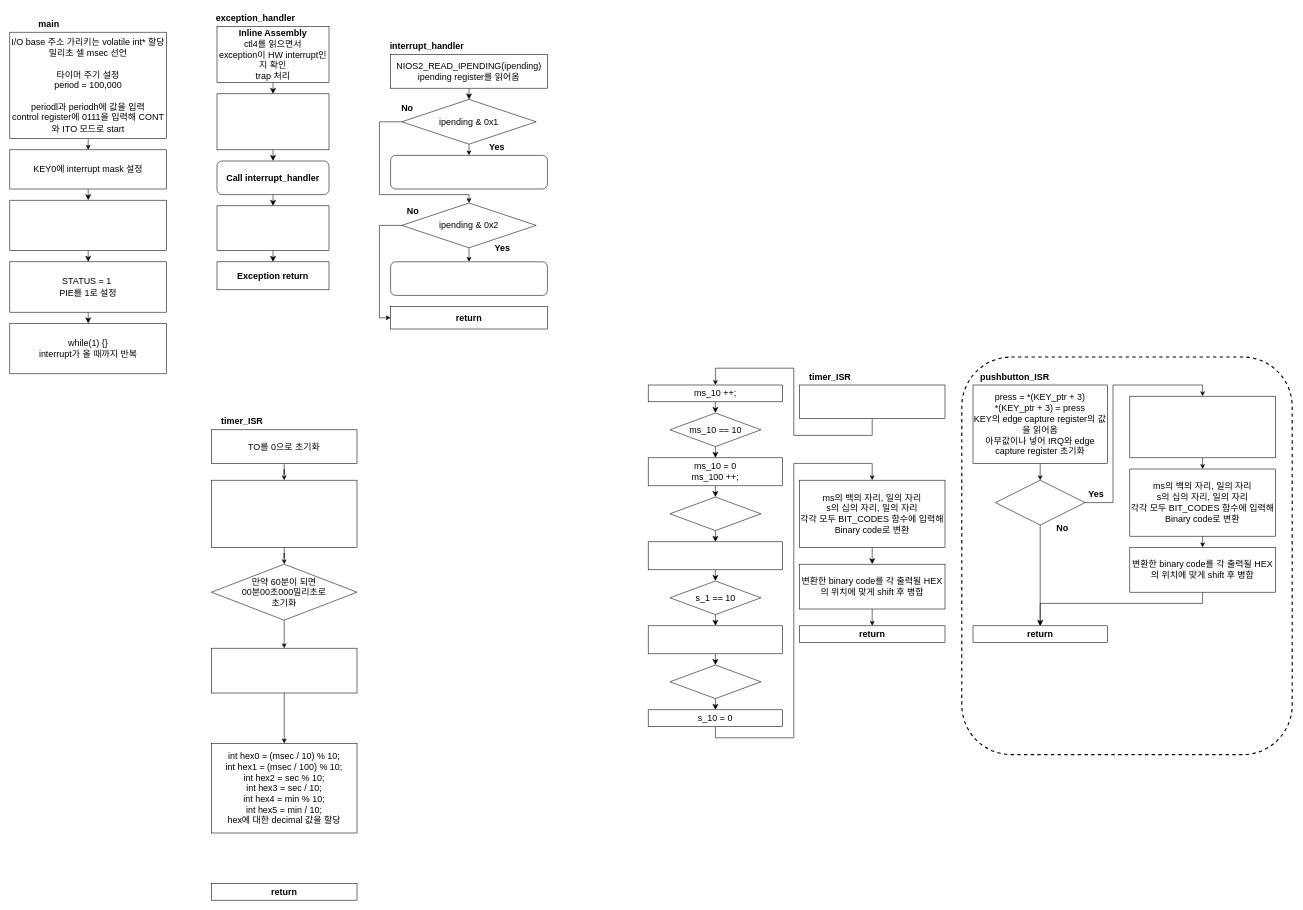
Some shapes in this 1303 by 910 pixel diagram are drawn without their labels. Each missing label, with the centre of its shape:
*TIMER_ptr = 0 TO를 0으로 초기화: point (872, 401)
Call pushbutton_ISR: point (468, 278)
Call timer_ISR: point (468, 172)
IENABLE = 3 KEY 와 TIMER의 인터럽트 허용: point (88, 225)
Inline Assembly 인터럽트 처리 전 ea, ra를 포함한 모든 register를 stack에 저장 (포괄적으로 처리): point (272, 121)
Inline Assembly 인터럽트 처리가 끝나면 ea, ra를 포함한 모든 register를 stack에서 불러옴: point (272, 228)
ms_10 = 0 ms_100 = 0 s_1 = 0 s_10 = 0 모든 시간 count를 0으로 초기화: point (1202, 427)
ms_100 = 0 s_1 ++;: point (715, 555)
ms_100 == 10: point (715, 513)
msec++로 밀리초를 셈 만약 60분이 되면 00분00초000밀리초 각각 모두 BIT_CODES 함수에 입력해 Binary code로 변환: point (284, 513)
press & 1: point (1040, 502)
s_1 = 0 s_10 ++;: point (715, 639)
s_10 == 6: point (715, 681)
sec = (msec / 1000) % 60; min = (msec / (1000 * 60)) % 60; msec를 분과 초 단위로 변경: point (284, 670)
